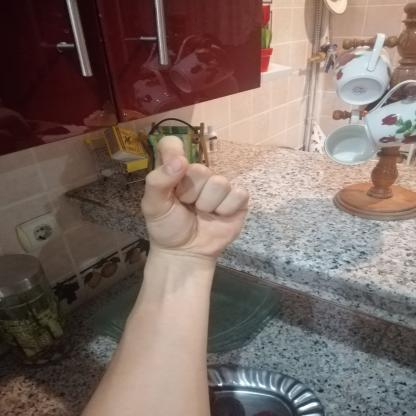FAA: (125, 126, 262, 270)
